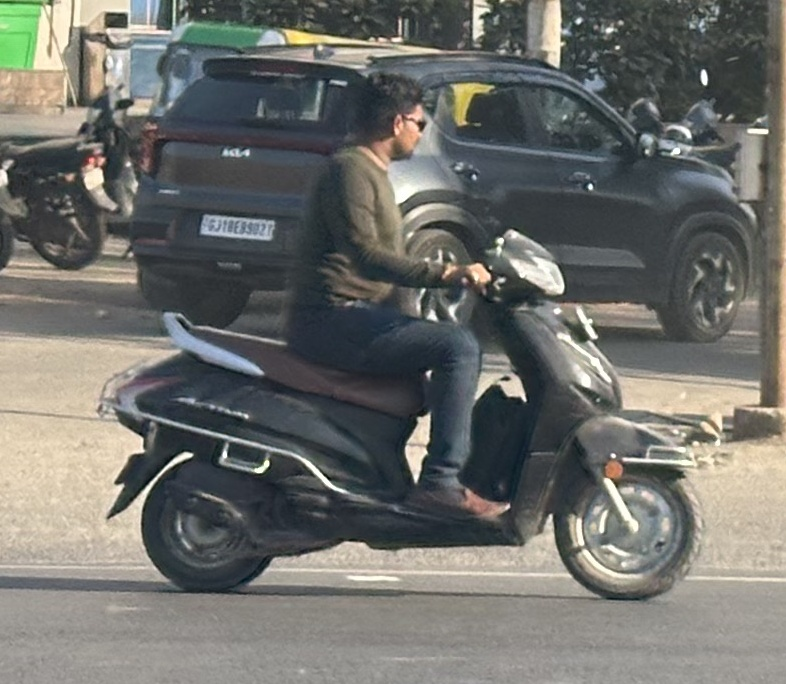BikeWithRider: (88, 64, 714, 613)
NoHelmet: (332, 71, 436, 170)
